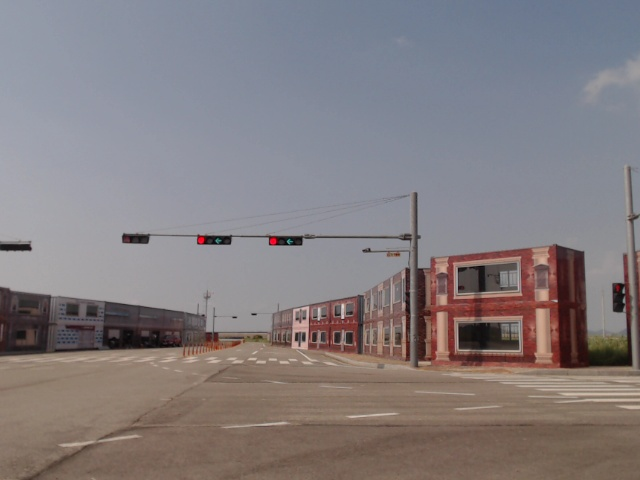left_green_4: (197, 236, 231, 244), (269, 237, 303, 245)
